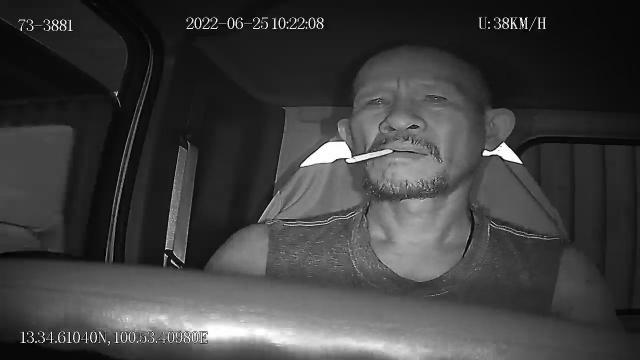SafeDriving: (357, 86, 397, 116), (416, 84, 456, 111)
Smoking: (345, 149, 393, 165)
